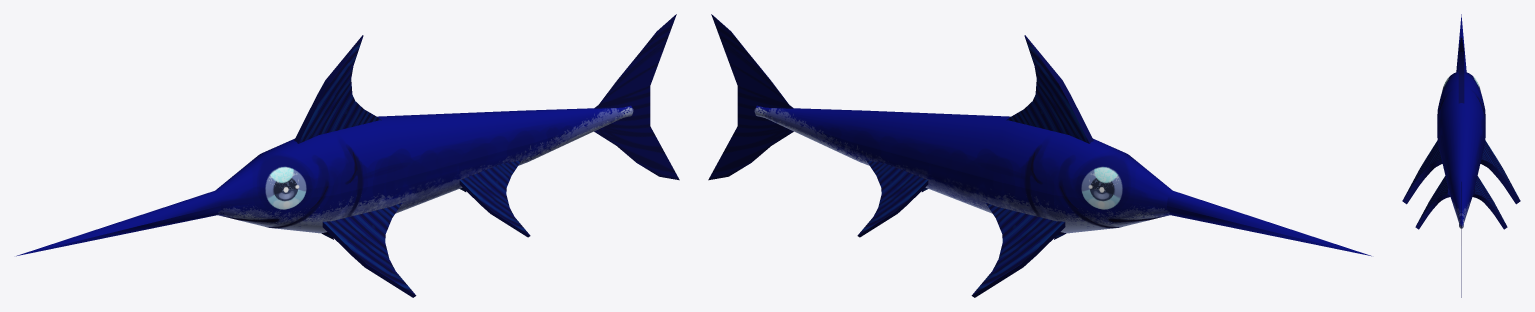
File: Sword fish.fbx
3 views of the same model, side by side, from view 1: azimuth 30°, elevation 25°; view 2: azimuth 150°, elevation 25°; view 3: azimuth 270°, elevation 25° (orthographic). The views are drawn at different scales.
Parts seen in each view (by area): view 1: Swordfish; view 2: Swordfish; view 3: Swordfish.
Part boxes in pixels (bbox=[...]): Swordfish: bbox=[16, 14, 679, 297]; Swordfish: bbox=[708, 14, 1371, 297]; Swordfish: bbox=[1402, 14, 1520, 297].
Bounding box in the file's own units: 122 × 41.37 × 27.21.
